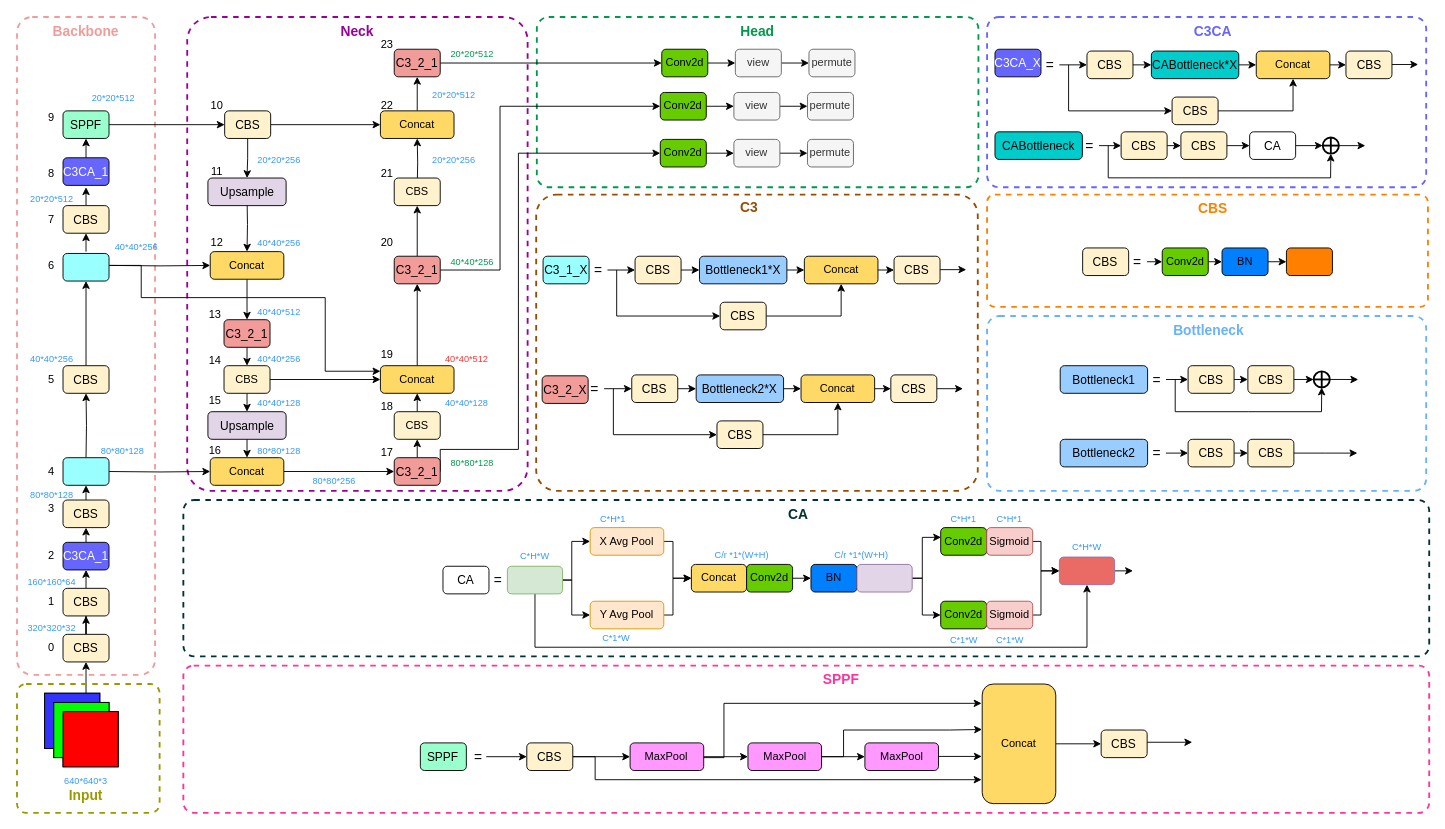
Image size: 1445x829. Some labels were removed from this diagram. Here are the shapes that lost their labels. From the top down, the centre of each, then its label:
the point at 85,267: C3_1_3
the point at 1309,261: SiLU
the point at 85,471: C3_1_2
the point at 534,579: Residual
the point at 884,578: Non-linear
the point at 1086,570: Re-weight
